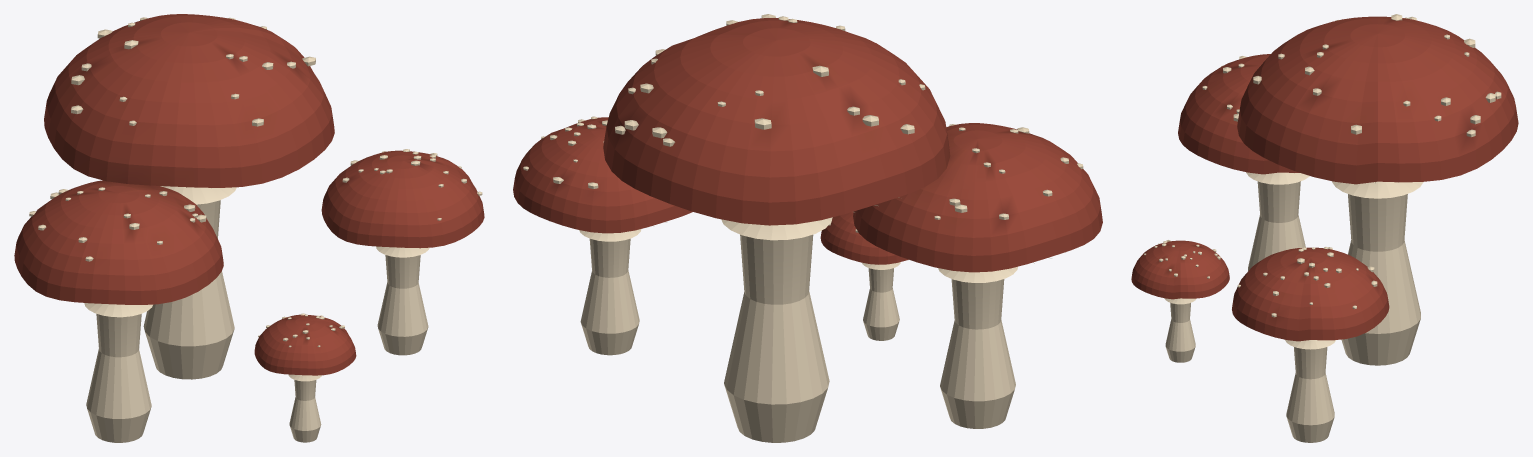
File: mushroom_redGroup.glb
3 renders of one model, left to right at view 1: azimuth 30°, elevation 25°; view 2: azimuth 150°, elevation 25°; view 3: azimuth 270°, elevation 25°, orthographic. The views are drawn at different scales.
Parts seen in each view (by area): view 1: Vermilion caps, Mushroom stems; view 2: Vermilion caps, Mushroom stems; view 3: Vermilion caps, Mushroom stems.
Part boxes in pixels (x1,y1,x2,y2): Vermilion caps: (14, 14, 484, 375); Mushroom stems: (29, 17, 482, 442); Vermilion caps: (513, 18, 1102, 272); Mushroom stems: (523, 14, 1083, 442); Vermilion caps: (1131, 16, 1518, 341); Mushroom stems: (1144, 14, 1501, 442).
Size of the model in its own units: 0.5708 by 0.3915 by 0.432.
